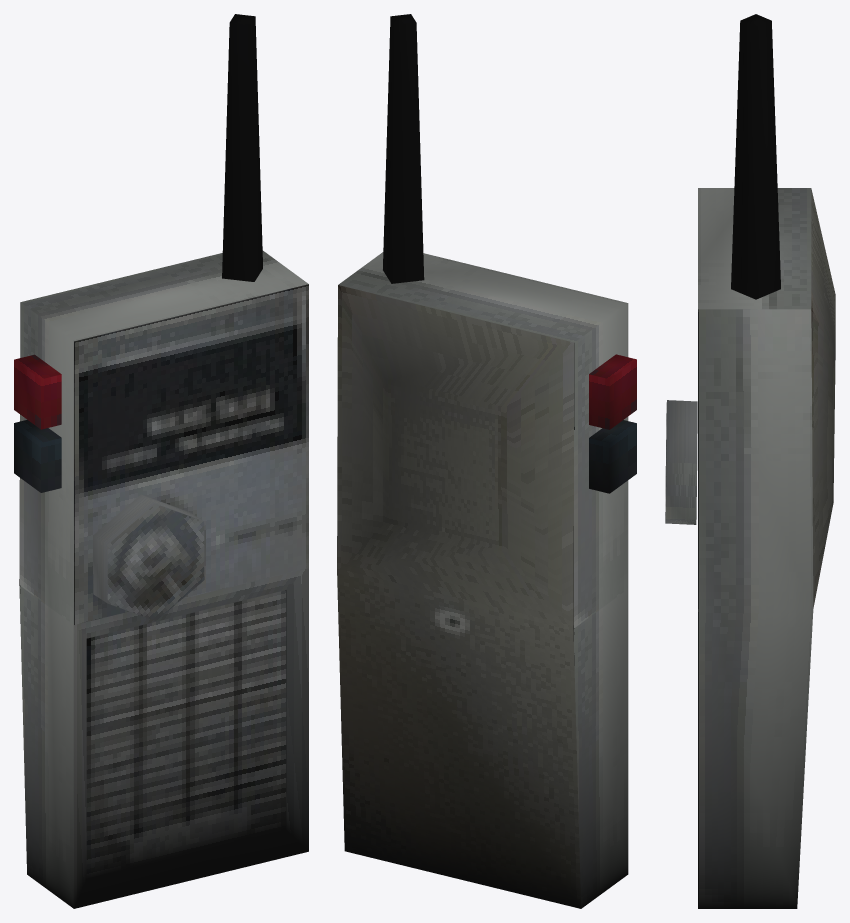
File: ps1_walkiTalkie.glb
3 views of the same model, side by side, from view 1: azimuth 30°, elevation 25°; view 2: azimuth 150°, elevation 25°; view 3: azimuth 270°, elevation 25° (orthographic). The views are drawn at different scales.
Parts seen in each view (by area): view 1: walkiTalki; view 2: walkiTalki; view 3: walkiTalki.
Boxes of the visible parts, <box> form: walkiTalki: <box>14,14,308,908</box>; walkiTalki: <box>337,14,636,908</box>; walkiTalki: <box>665,14,835,908</box>.
Size of the model in its own units: 0.8885 by 2.73 by 0.4847.
1 material, 1 textured.
